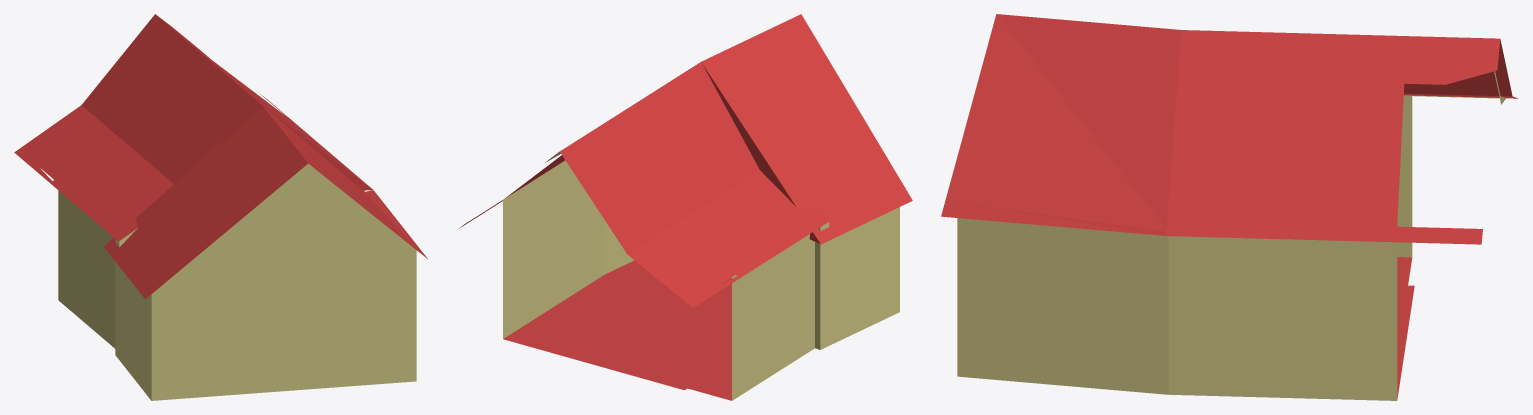
The picture shows the model from 3 angles, left to right: view 1: azimuth 30°, elevation 25°; view 2: azimuth 150°, elevation 25°; view 3: azimuth 270°, elevation 25°; orthographic projection. The views are drawn at different scales.
Size of the model in its own units: 17.38 by 23.8 by 13.75.
